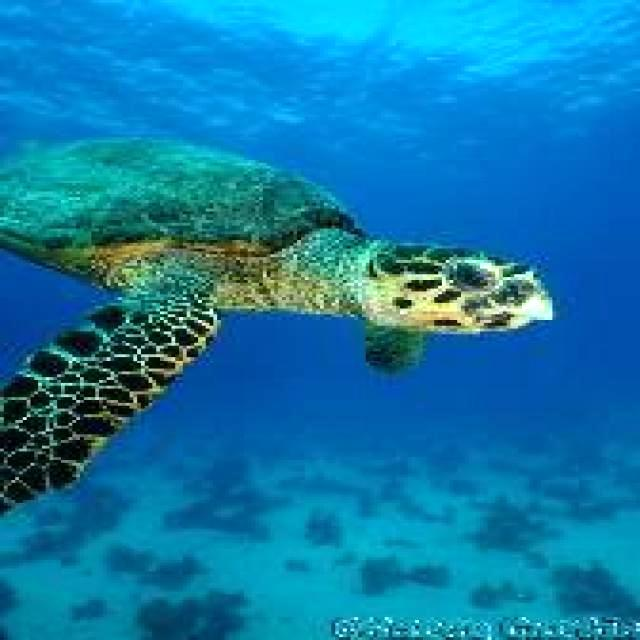Sea turtle: (0, 98, 557, 532)
